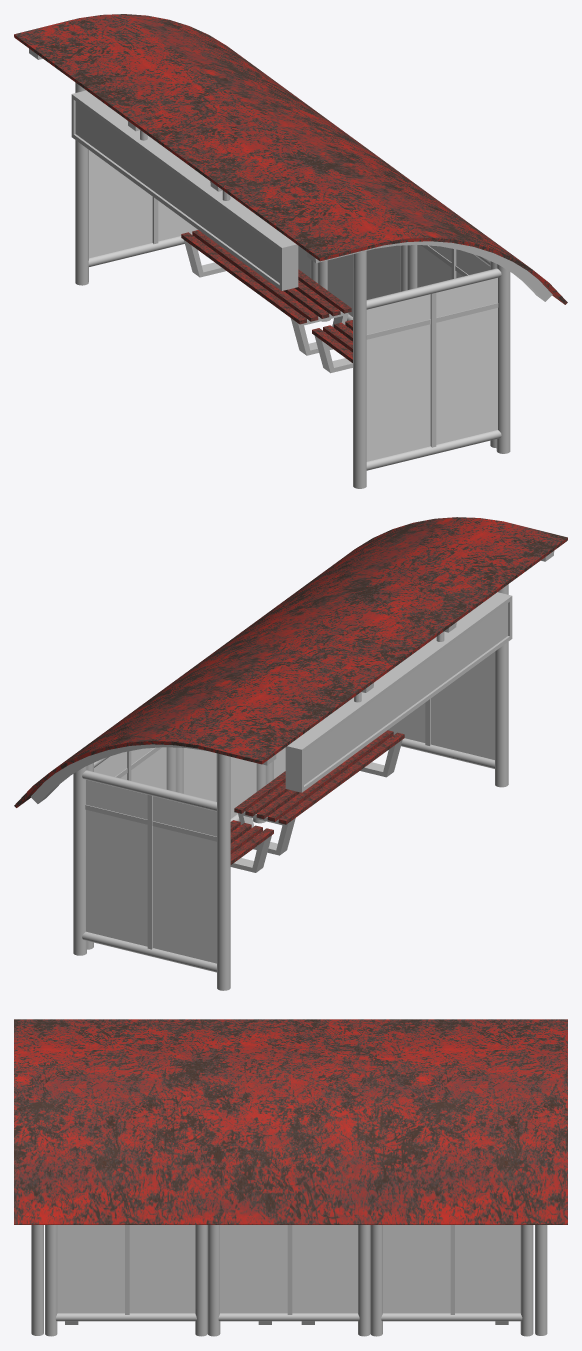
Rendered from Busstop1.1.fbx.
3 renders of one model, top to bottom at view 1: azimuth 30°, elevation 25°; view 2: azimuth 150°, elevation 25°; view 3: azimuth 270°, elevation 25°, orthographic. The views are drawn at different scales.
Parts seen in each view (by area): view 1: Plane.007; view 2: Plane.007; view 3: Plane.007.
Boxes of the visible parts, x1,y1,x2,y2 form: Plane.007: (14,14,567,488); Plane.007: (14,517,567,990); Plane.007: (14,1019,567,1336).
Size of the model in its own units: 388 by 374 by 827.
